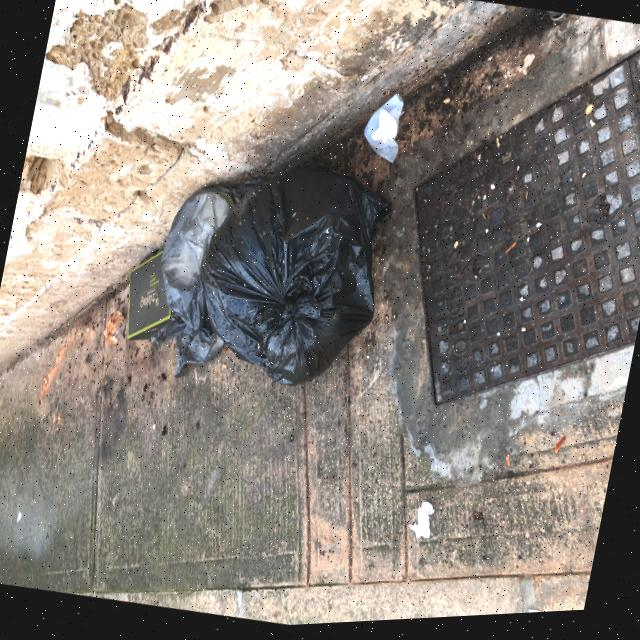Mixed Waste -Black Bag-: (183, 145, 404, 409), (140, 176, 259, 391)
Other: (116, 247, 188, 351), (356, 89, 419, 172), (405, 499, 443, 551)
